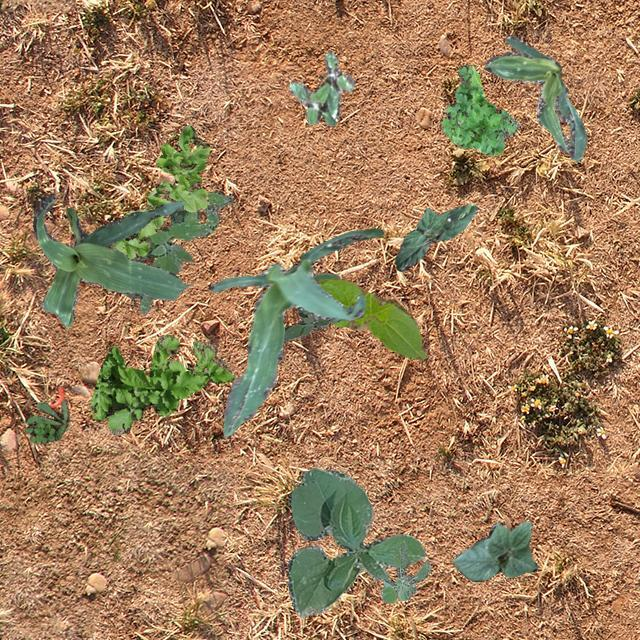crop: (210, 227, 382, 436), (31, 192, 190, 326), (286, 468, 424, 616), (484, 34, 586, 160), (314, 276, 426, 360), (394, 202, 476, 270), (452, 520, 538, 580)
weed: (89, 334, 232, 436), (120, 190, 232, 312), (108, 124, 208, 258), (441, 64, 518, 154), (288, 48, 354, 125), (282, 272, 338, 340), (380, 540, 430, 602), (23, 398, 68, 444)
